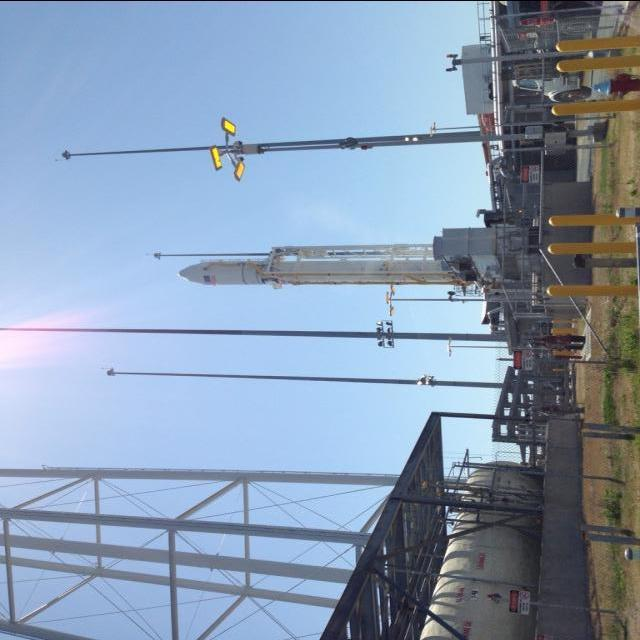missile: (175, 253, 458, 289)
